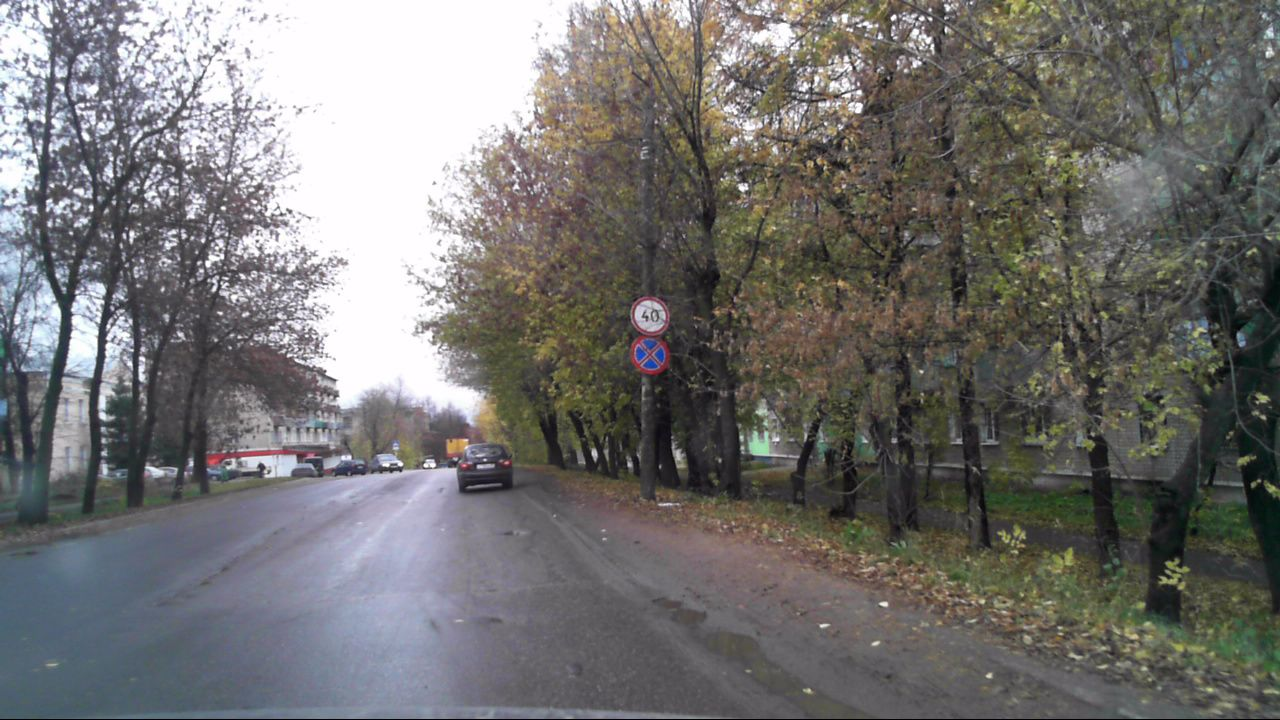No Parking: (630, 335, 671, 375)
speed_warning_40: (631, 296, 670, 337)
